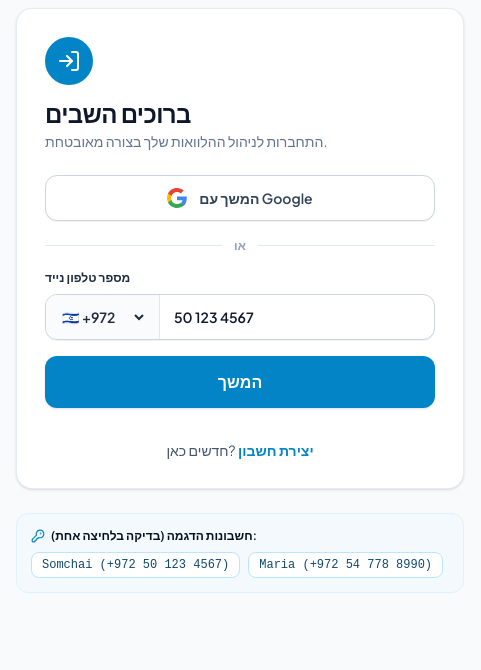
Test: Login screen in Hebrew (T3.2) › shows a translated validation error
The image size is (481, 670).
Clear the field with id "signin-phone-input" at (297, 317), box [160,295,434,339]
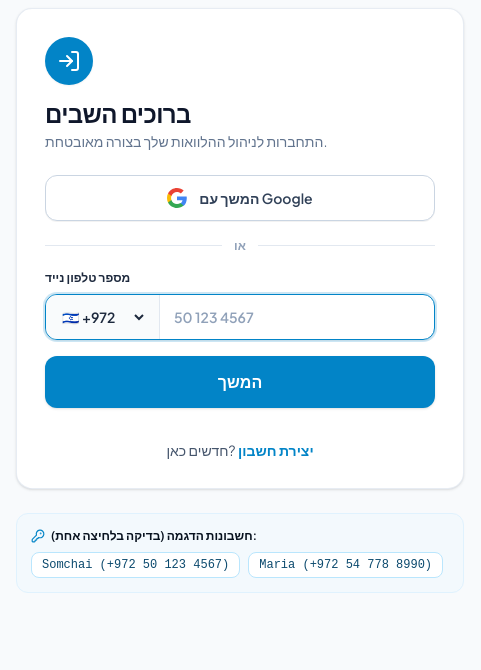
Click the button "המשך" at (240, 382), box [45,356,435,408]
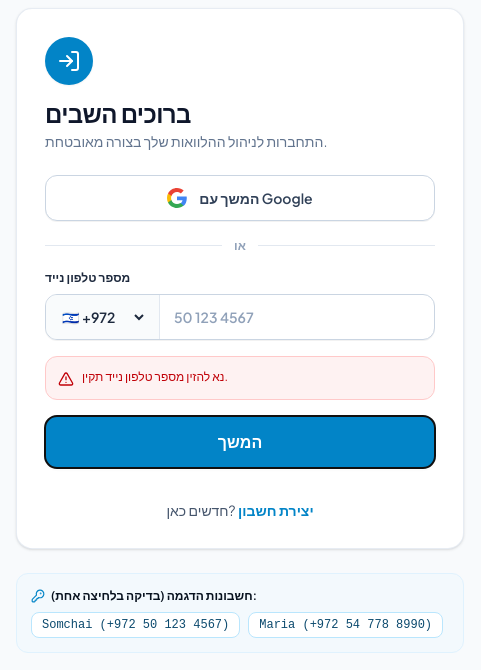
Expected: the text "נא להזין מספר טלפון נייד תקין." is shown, [82,369,228,385]
